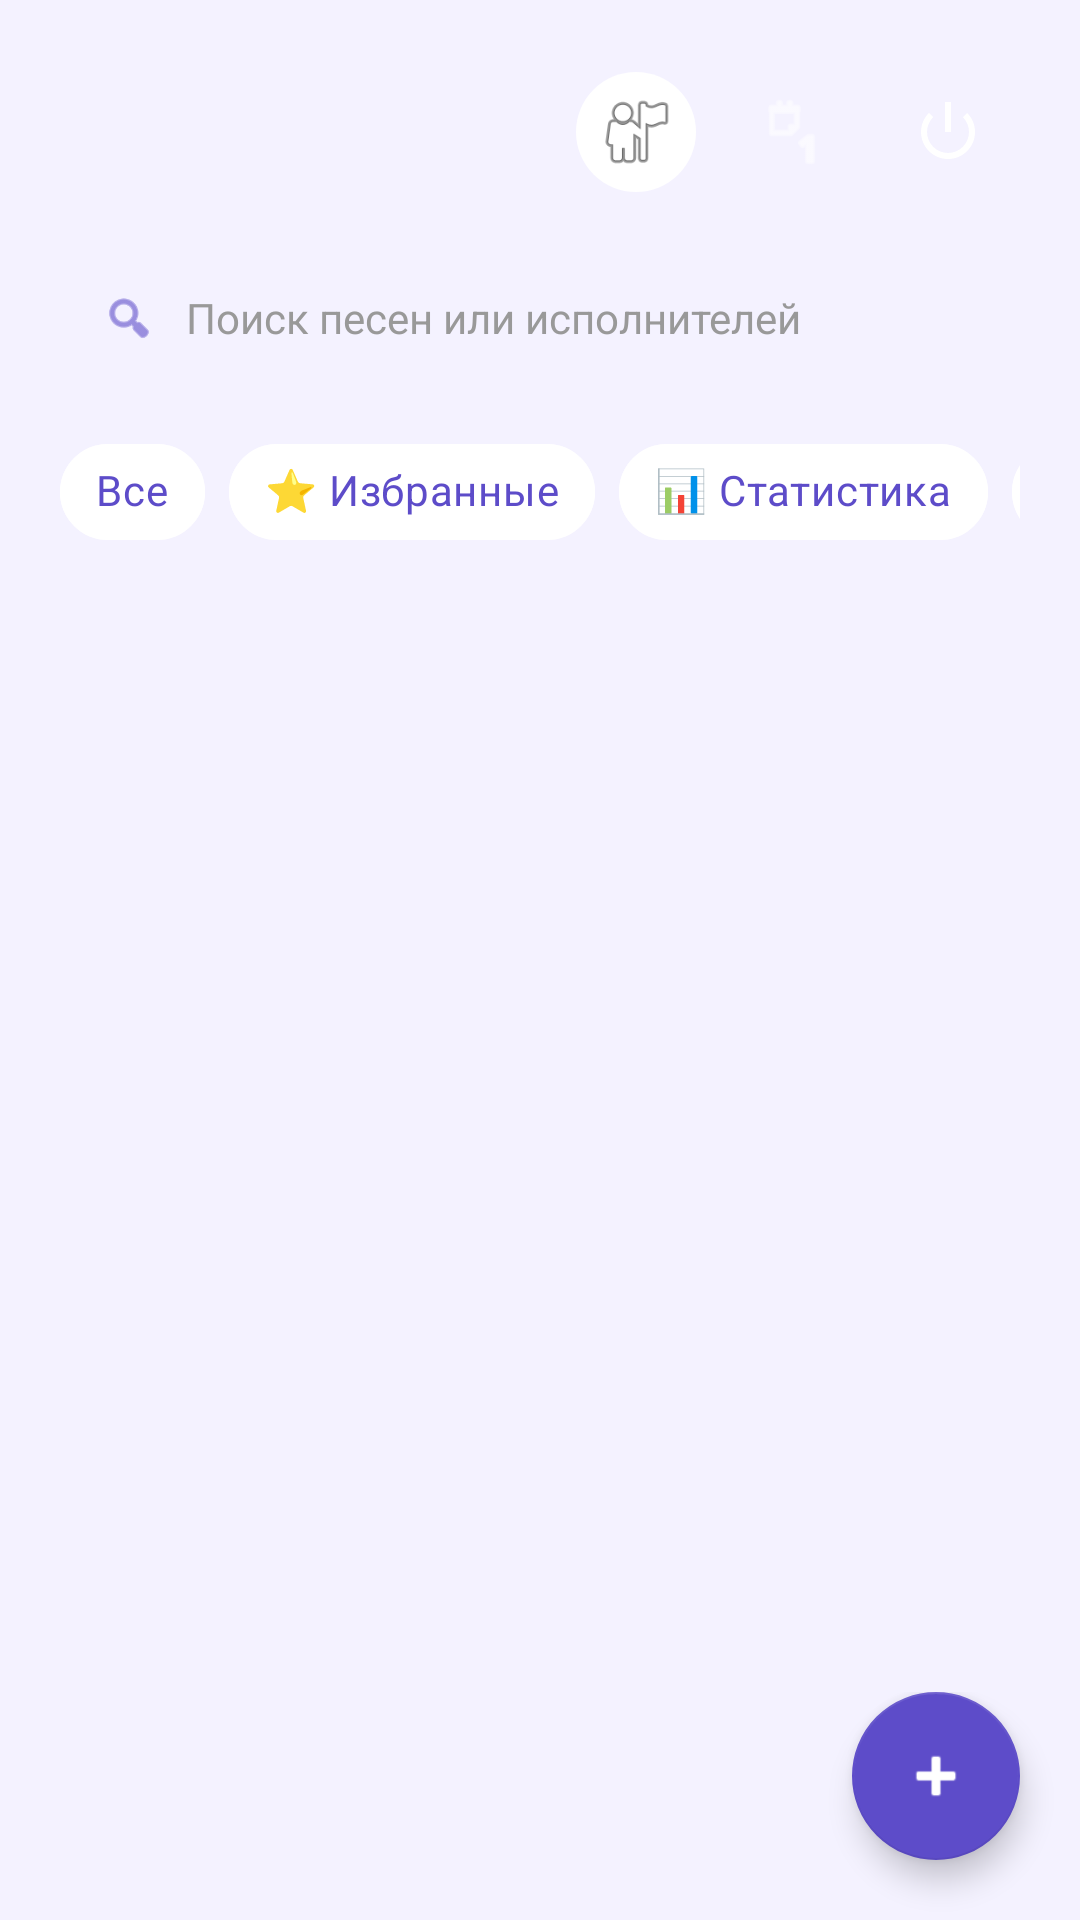

Where icons sit on this 1080 × 1920 app screen, as (x1, y1, x2, y2):
Добавить песню: (852, 1692, 1020, 1860)
